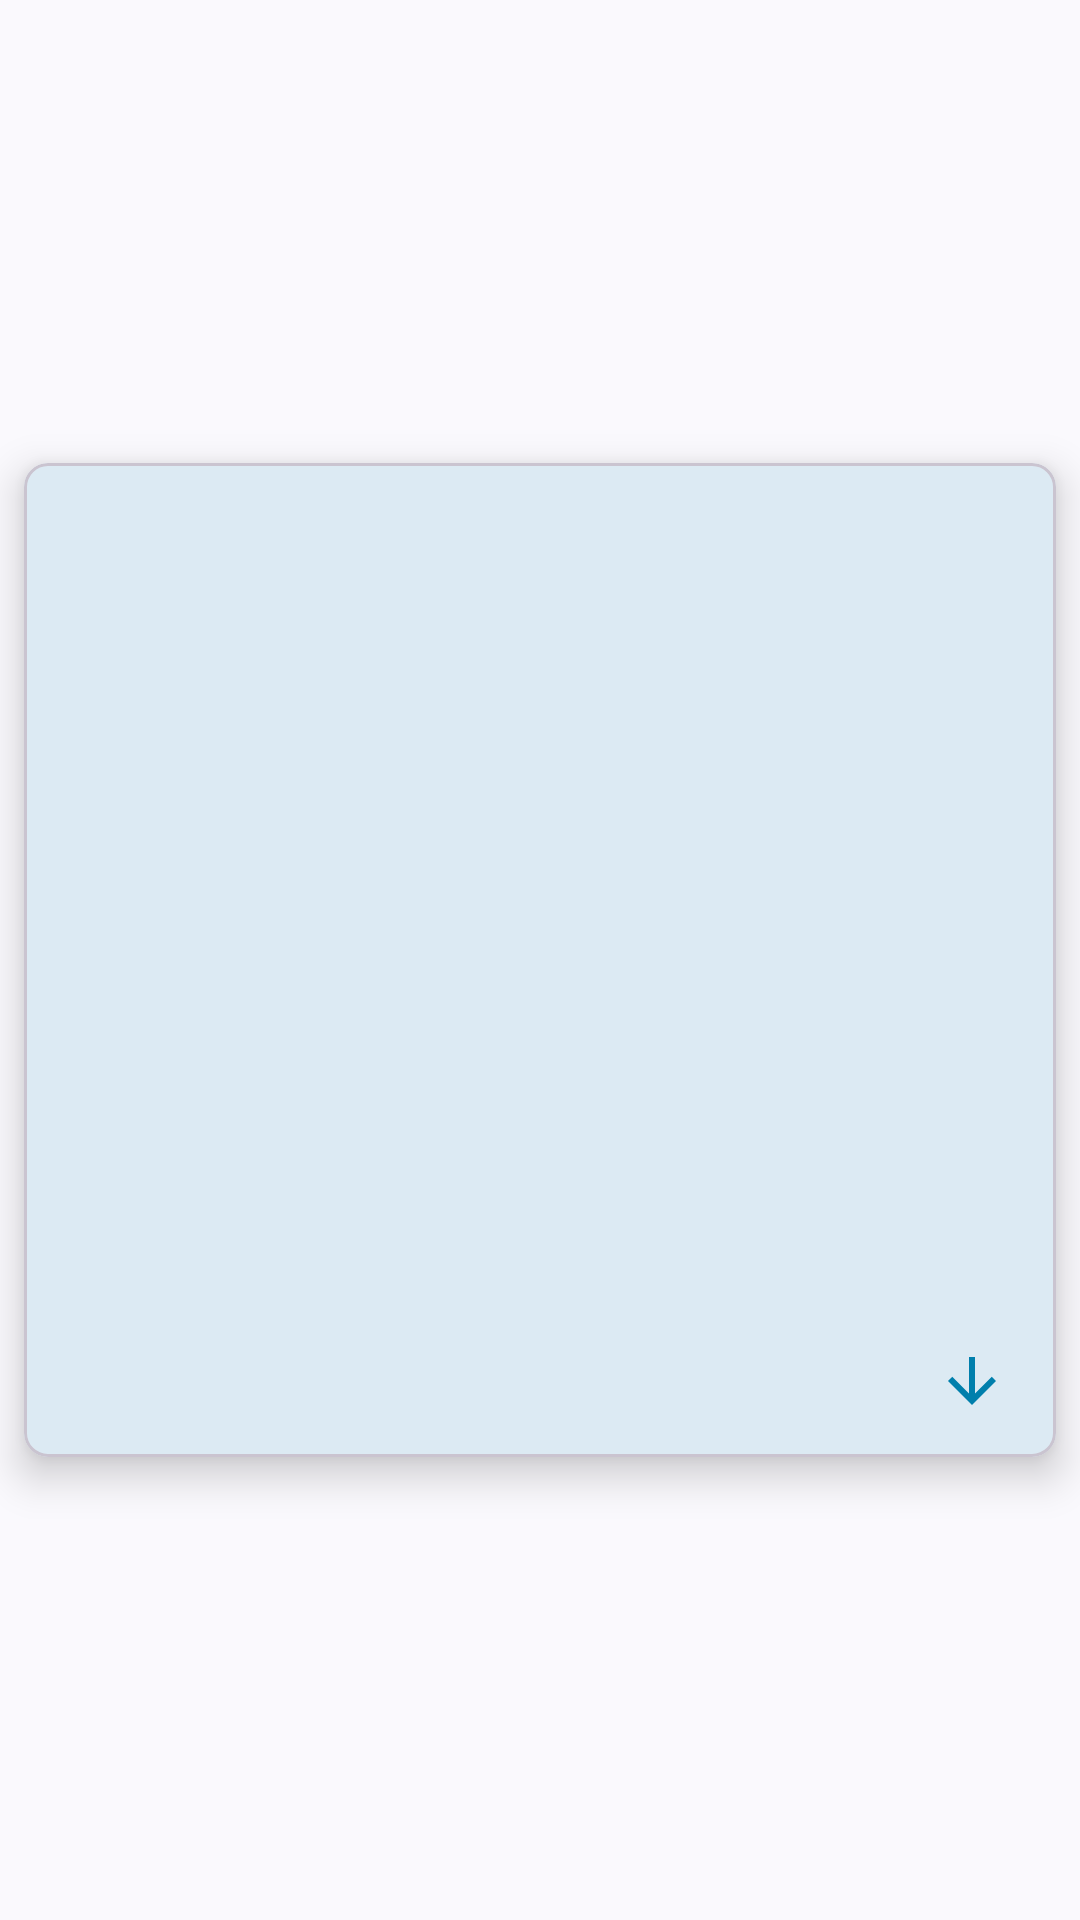

Named icons in this screenshot (1080w x 1920h) and their centers, [x,y]:
arrow downward: [972,1381]
